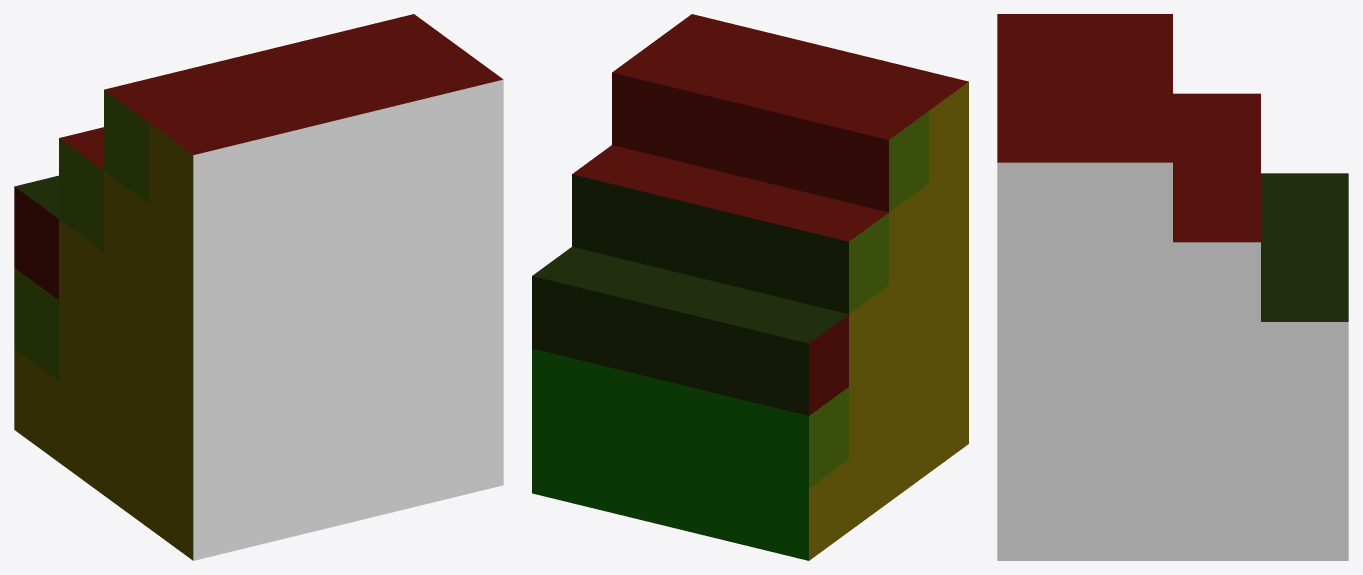
Rendered from block_25.fbx.
The picture shows the model from 3 angles, left to right: view 1: azimuth 30°, elevation 25°; view 2: azimuth 150°, elevation 25°; view 3: azimuth 270°, elevation 25°; orthographic projection. The views are drawn at different scales.
Parts seen in each view (by area): view 1: box; view 2: box; view 3: box.
Part boxes in pixels (x1,y1,x2,y2): box: (14,14,503,560); box: (532,14,968,560); box: (997,14,1348,560).
Bounding box in the file's own units: 4 × 4 × 5.
1 material, 1 textured.
